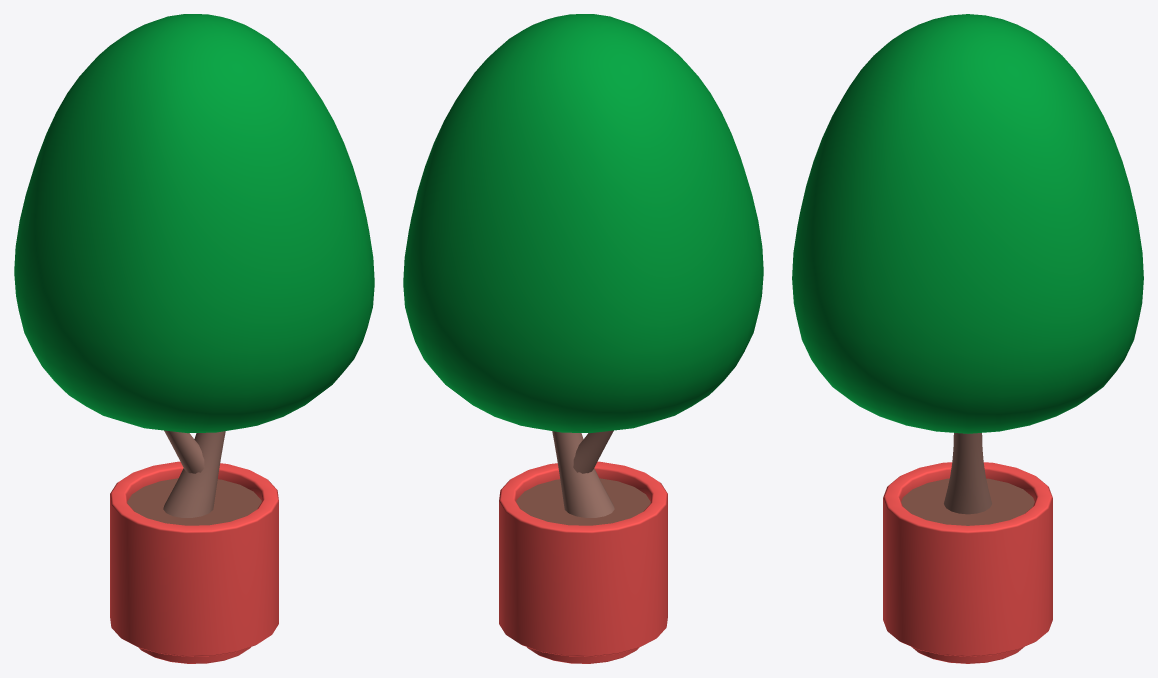
The model's file is Public_12_Tree_2.glb.
3 renders of one model, left to right at view 1: azimuth 30°, elevation 25°; view 2: azimuth 150°, elevation 25°; view 3: azimuth 270°, elevation 25°, orthographic.
Visible parts, largest first — view 1: Public_12_Tree_2; view 2: Public_12_Tree_2; view 3: Public_12_Tree_2.
Boxes of the visible parts, <box> form: Public_12_Tree_2: <box>14,14,374,663</box>; Public_12_Tree_2: <box>403,14,763,663</box>; Public_12_Tree_2: <box>792,14,1143,663</box>.
Bounding box in the file's own units: 1.66 × 3.19 × 1.66.
Materials: 1 (1 with a texture image).
